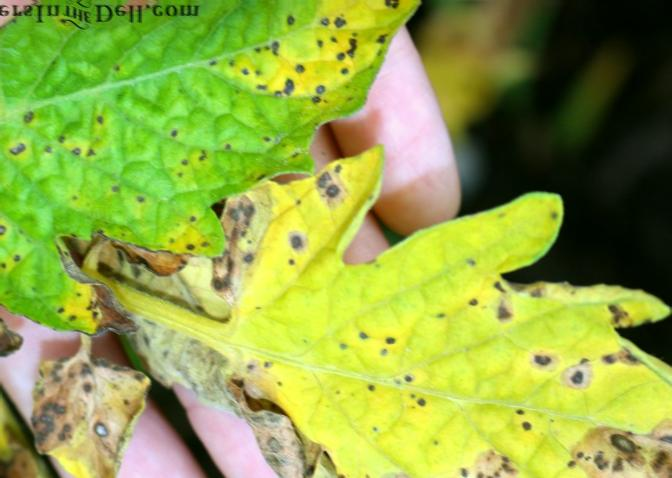Tomato Septoria leaf spot: (0, 0, 424, 323), (199, 183, 636, 478)
